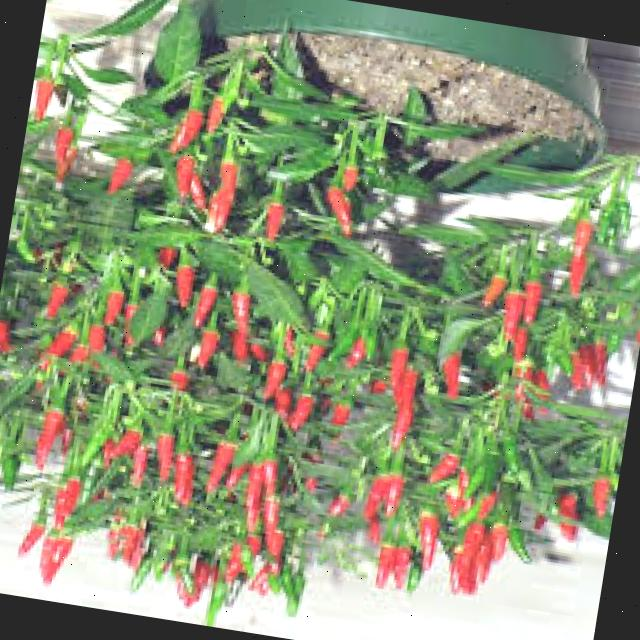healthy: (0, 129, 603, 640)
